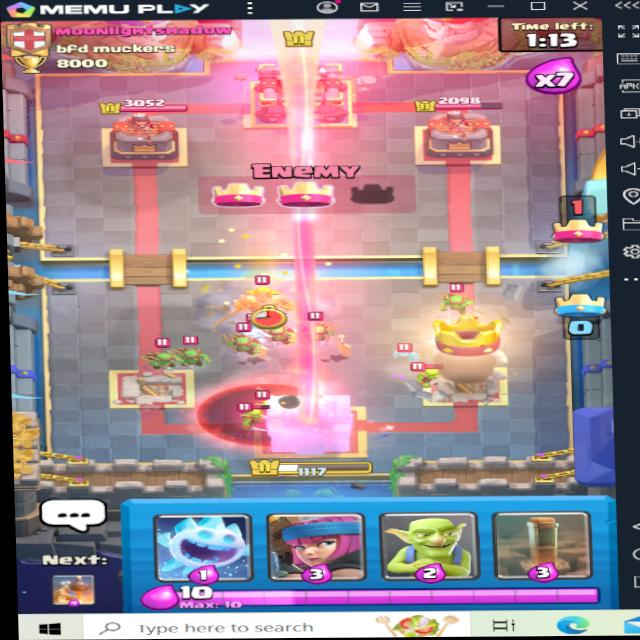Goblin: (231, 402, 269, 428), (416, 359, 447, 385)
Goldenknight: (215, 276, 298, 327)
Icespirit: (234, 320, 276, 347)
Speargoblin: (434, 284, 480, 316), (305, 318, 347, 346), (173, 339, 209, 369), (145, 345, 179, 374), (230, 333, 266, 353), (271, 324, 295, 346)
Void: (199, 382, 327, 444)
